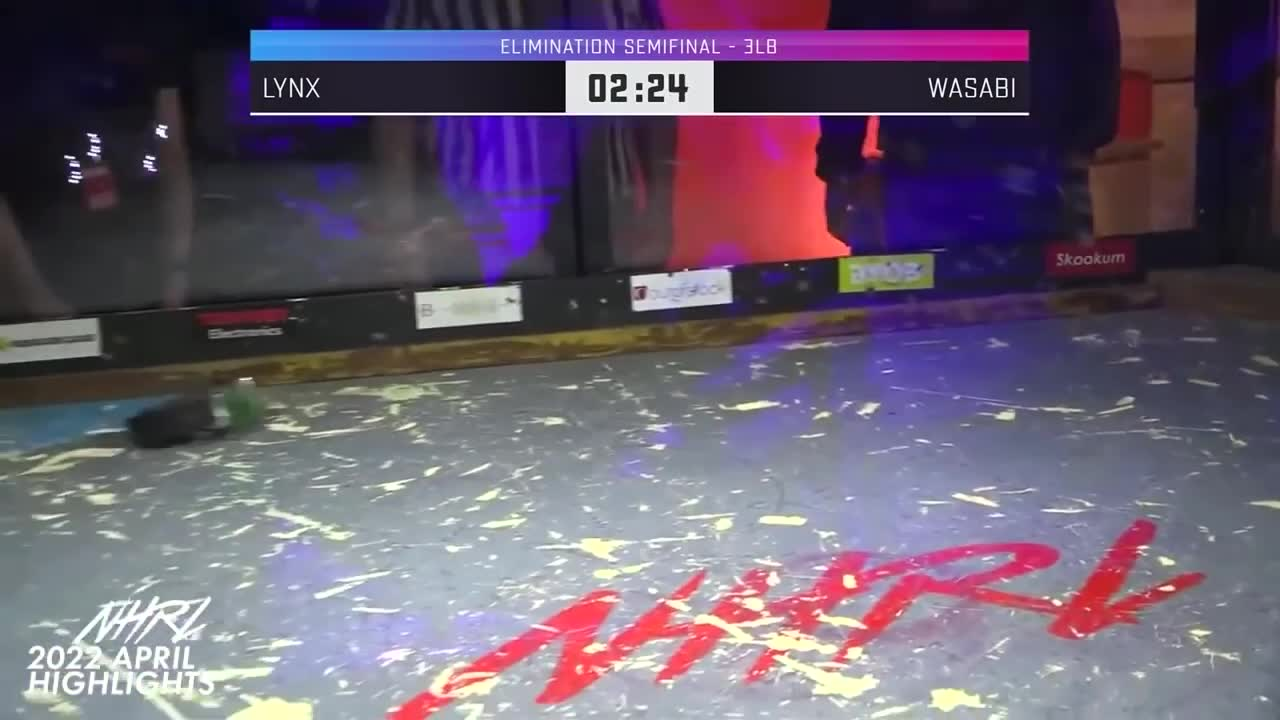combatbot: (127, 374, 261, 447)
